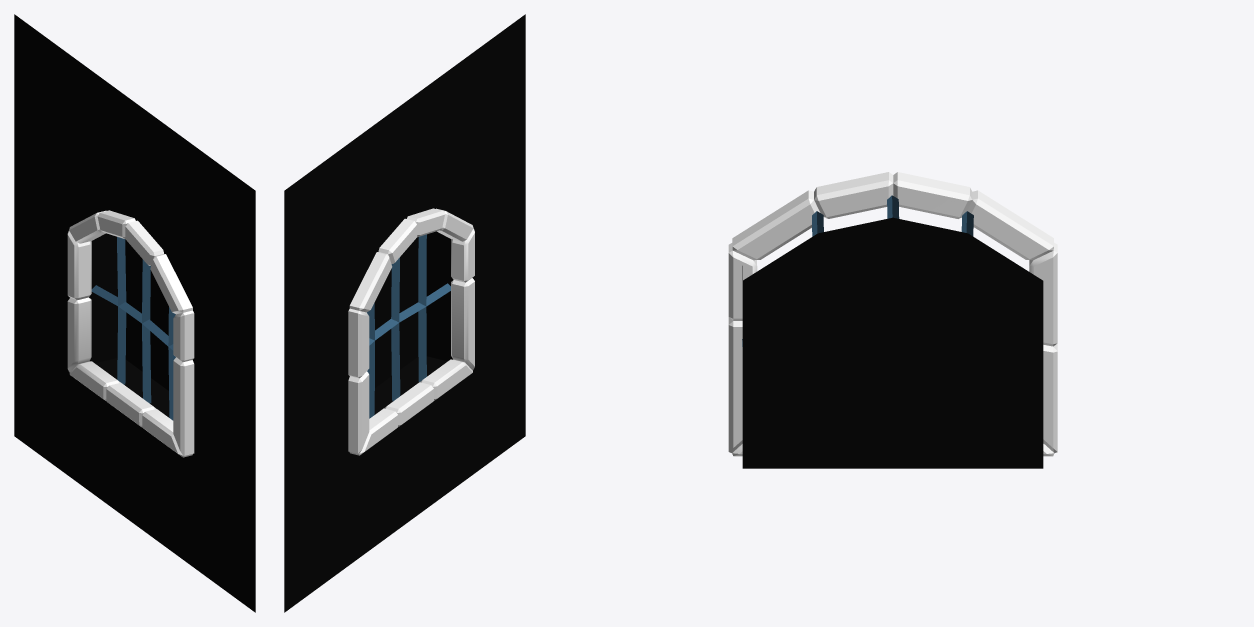
The model's file is StandardWindow04.fbx.
3 views of the same model, side by side, from view 1: azimuth 30°, elevation 25°; view 2: azimuth 150°, elevation 25°; view 3: azimuth 270°, elevation 25° (orthographic). The views are drawn at different scales.
Parts seen in each view (by area): view 1: standard_window_4; view 2: standard_window_4; view 3: standard_window_4.
Part boxes in pixels (box(x1,y1,x2,y2)): standard_window_4: box(14, 14, 255, 612); standard_window_4: box(284, 14, 525, 612); standard_window_4: box(728, 172, 1057, 468).
Size of the model in its own units: 36.88 by 291 by 302.
